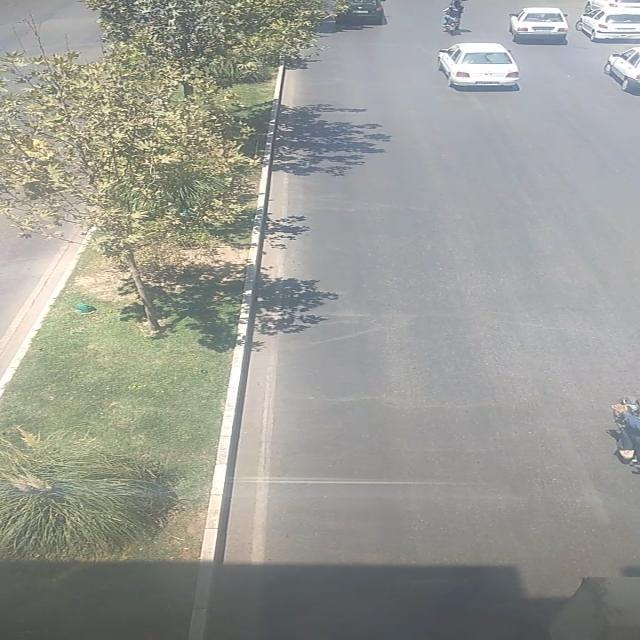car: (436, 42, 520, 86), (510, 7, 574, 41), (580, 6, 640, 42), (602, 46, 640, 95), (336, 0, 389, 26), (585, 0, 640, 13)
motor: (606, 397, 640, 471), (442, 1, 466, 33)
